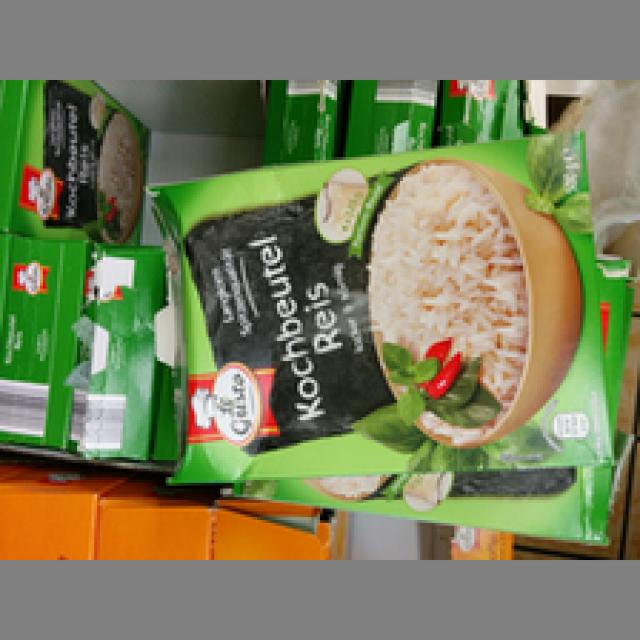groceries: (137, 126, 614, 486), (0, 77, 149, 246)
